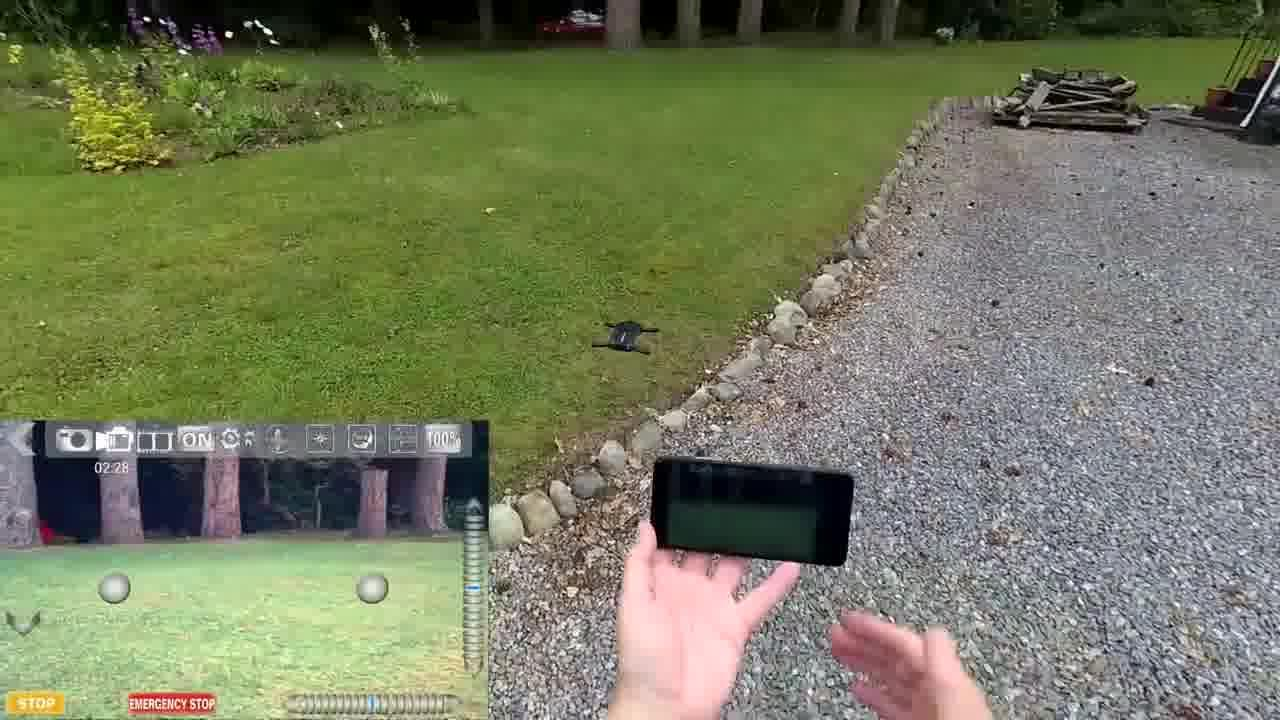drone: (580, 302, 664, 369)
